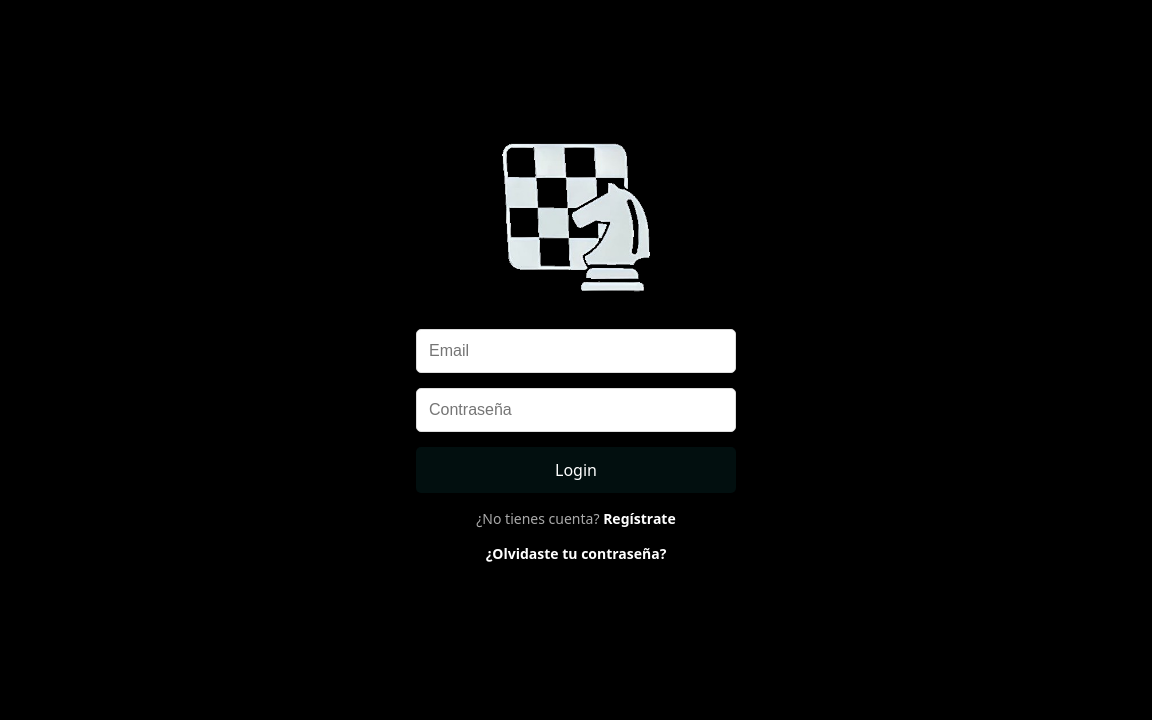
login_with_error_if_firebase_fails
Type "i@i.com" into the field with placeholder "Email" at (576, 351), box x1=416 y1=329 x2=736 y2=373
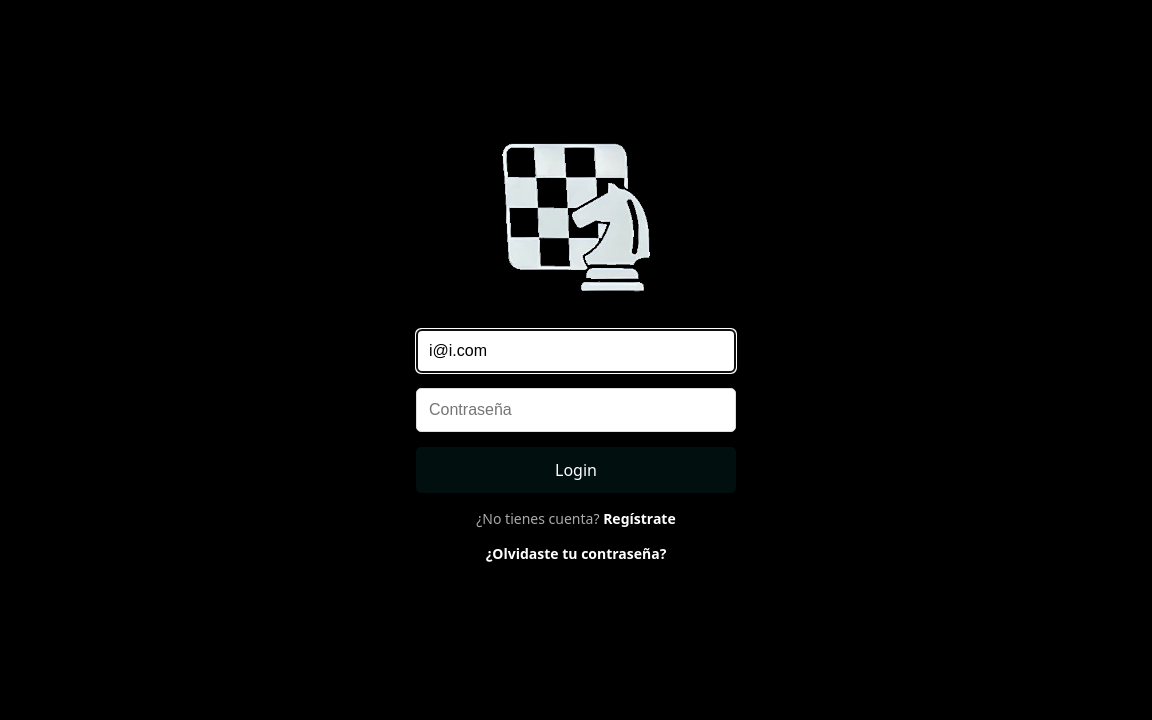
Type "cont" into the password field with placeholder "Contraseña" at (576, 410), box x1=416 y1=388 x2=736 y2=432
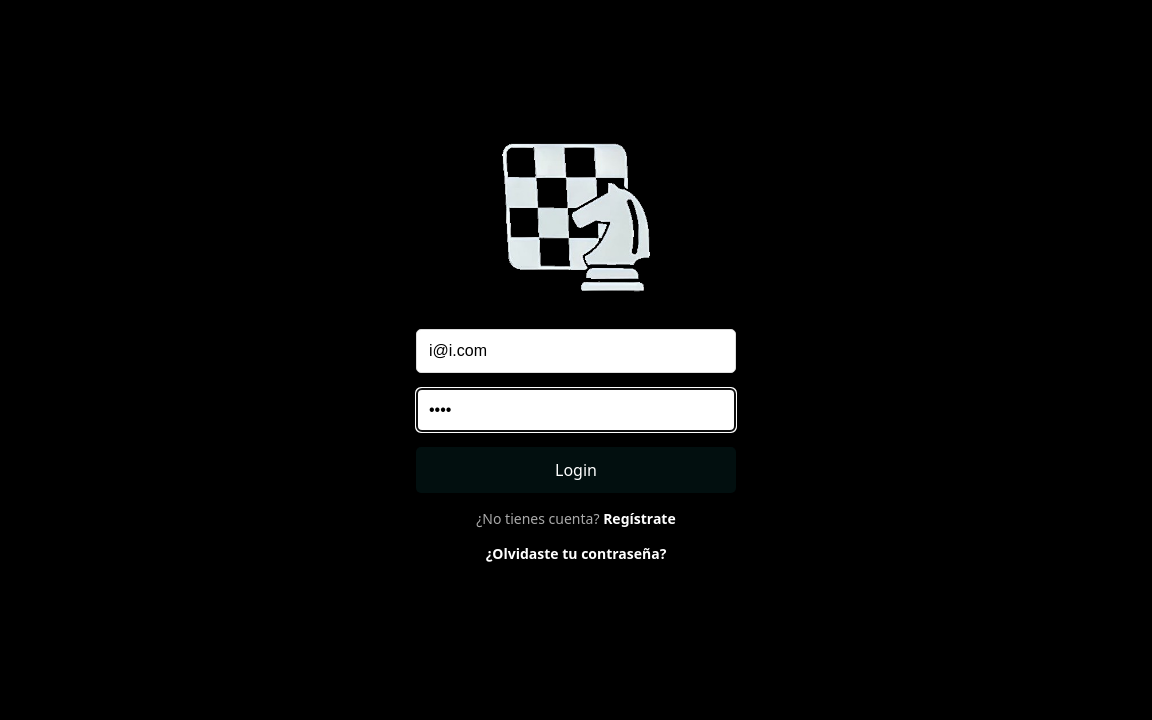
Click the button "Login" at (576, 470), box x1=416 y1=447 x2=736 y2=493
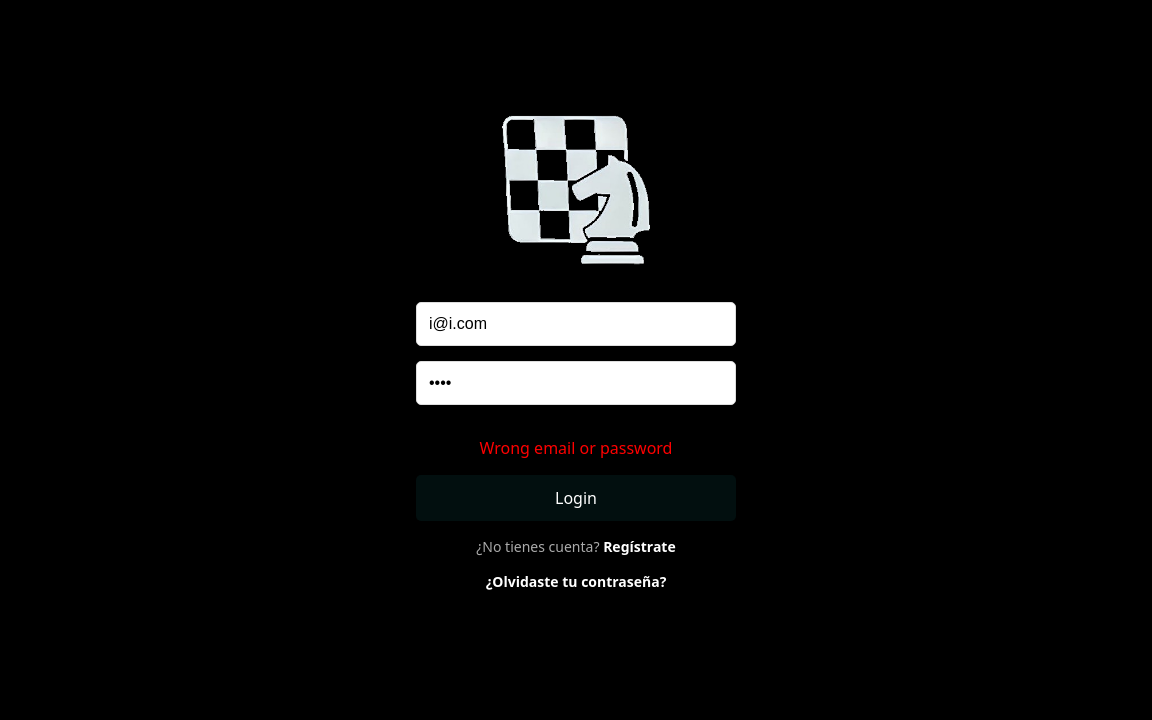
Expected: the text "Wrong email or password" is shown, x1=480 y1=437 x2=672 y2=459
